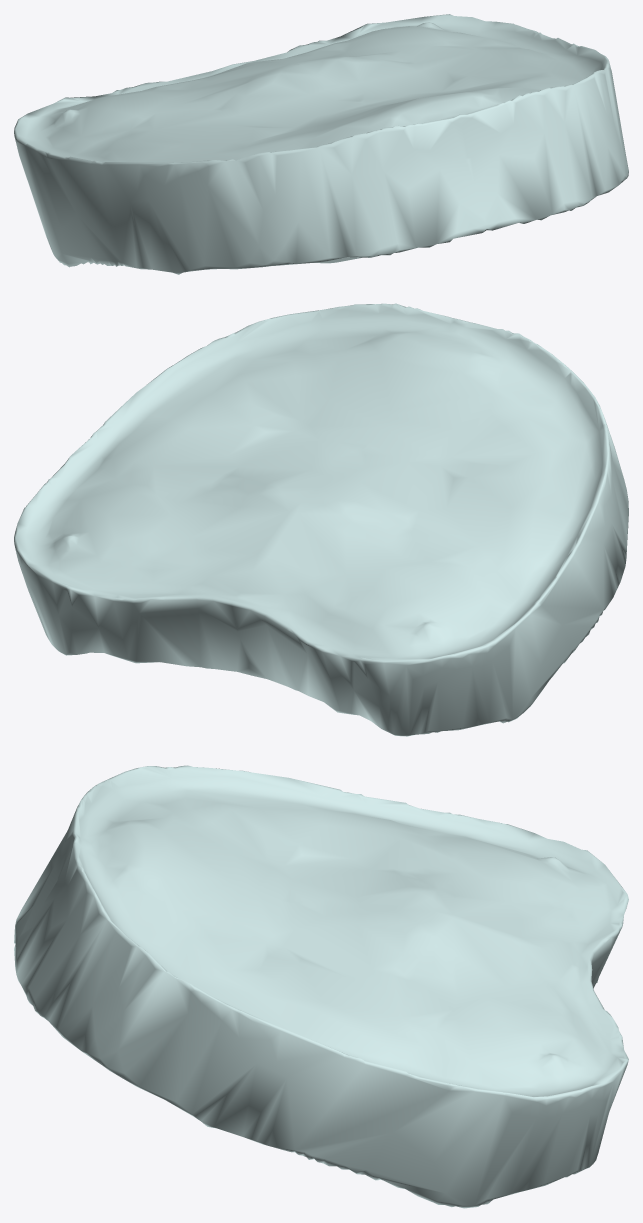
The model's file is Intervertebral_disc_T11-T12_Generated_Mesh_From_X3D.084.glb.
The picture shows the model from 3 angles, top to bottom: view 1: azimuth 30°, elevation 25°; view 2: azimuth 150°, elevation 25°; view 3: azimuth 270°, elevation 25°; orthographic projection. The views are drawn at different scales.
Parts seen in each view (by area): view 1: Intervertebral_disc_T11-T12_Generated_Mesh_From_X3D.084; view 2: Intervertebral_disc_T11-T12_Generated_Mesh_From_X3D.084; view 3: Intervertebral_disc_T11-T12_Generated_Mesh_From_X3D.084.
Boxes of the visible parts, <box> form: Intervertebral_disc_T11-T12_Generated_Mesh_From_X3D.084: <box>14,14,628,274</box>; Intervertebral_disc_T11-T12_Generated_Mesh_From_X3D.084: <box>14,303,628,736</box>; Intervertebral_disc_T11-T12_Generated_Mesh_From_X3D.084: <box>14,765,628,1208</box>.
Bounding box in the file's own units: 0.0423 × 0.018 × 0.0403.
